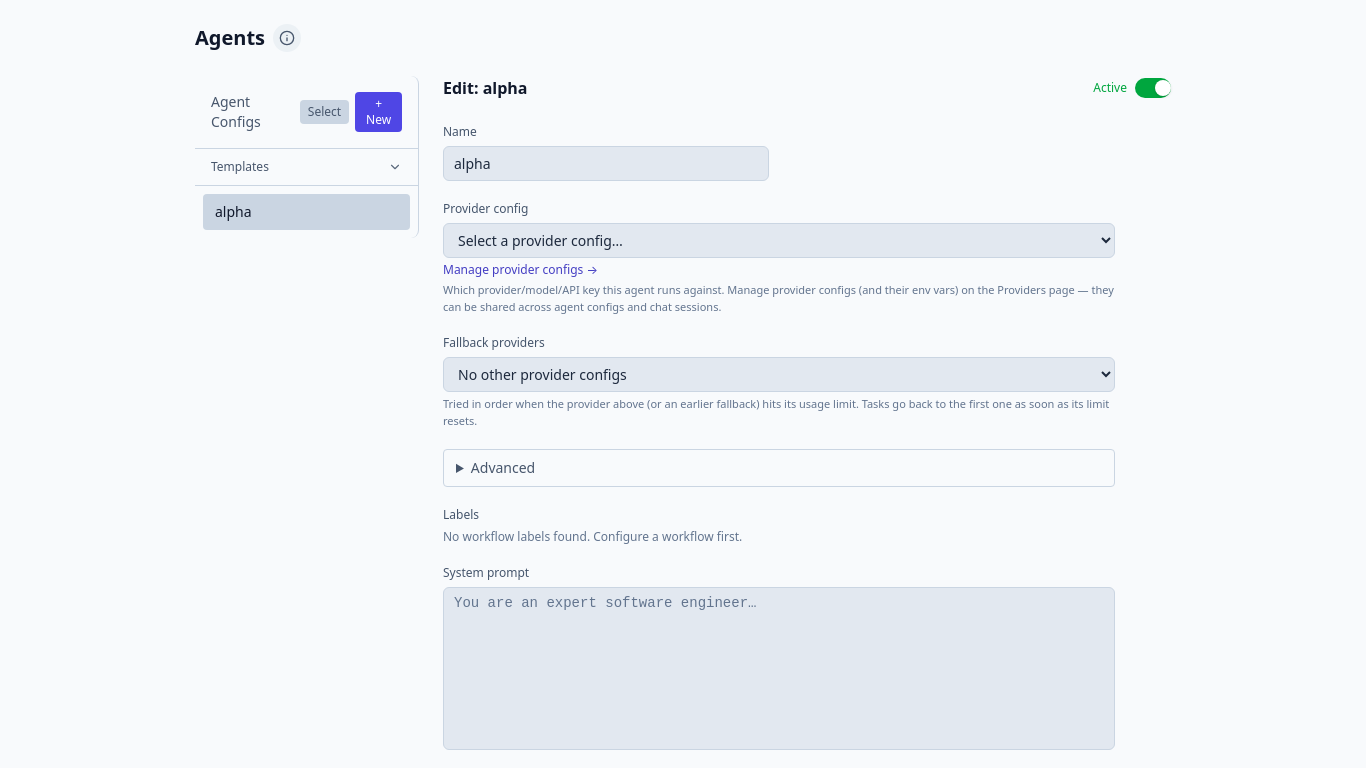
Test: AgentConfigPage › shows the empty form after clicking New
The image size is (1366, 768).
Expected: the heading "Edit: alpha" is shown, left=443, top=76, right=528, bottom=100
Click the button "+ New". click: (379, 112)
box: left=355, top=92, right=402, bottom=132
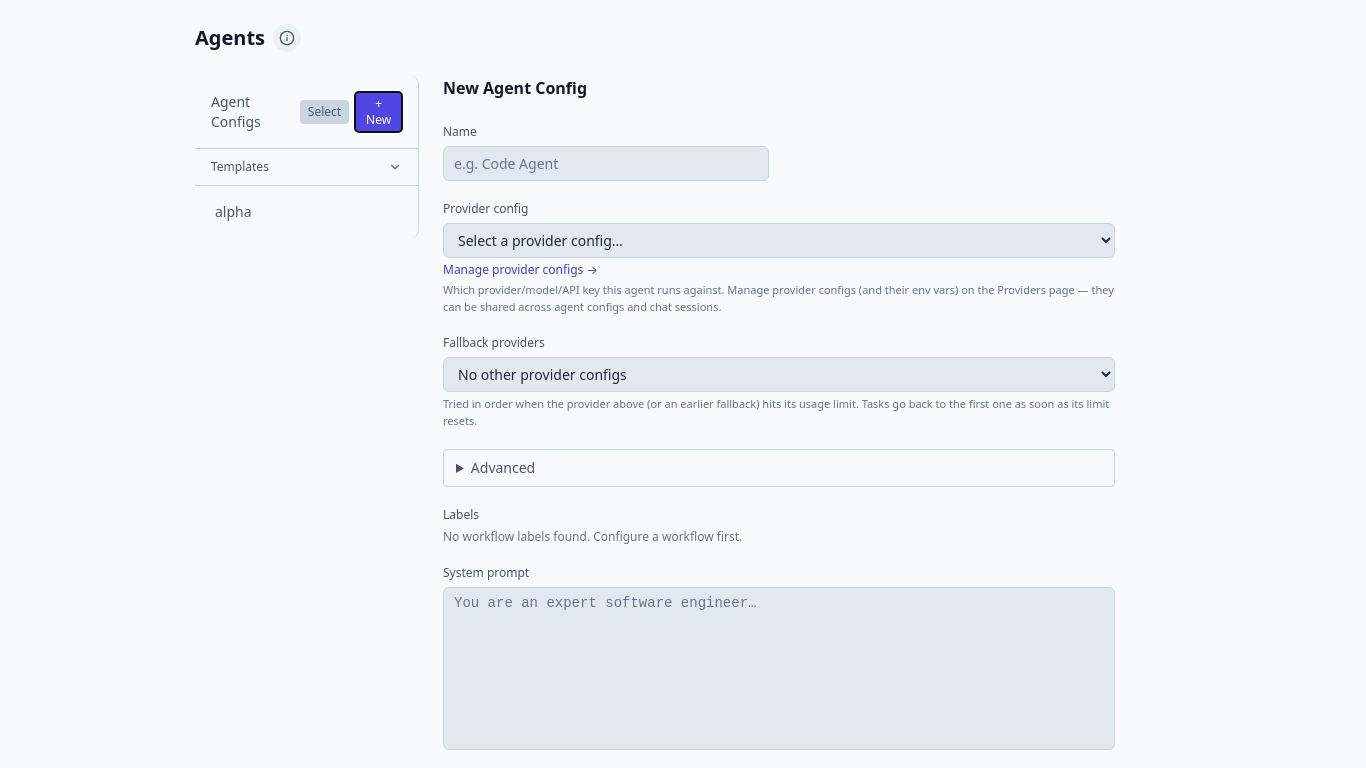
Result: the heading "New Agent Config" is shown at left=443, top=76, right=587, bottom=100
